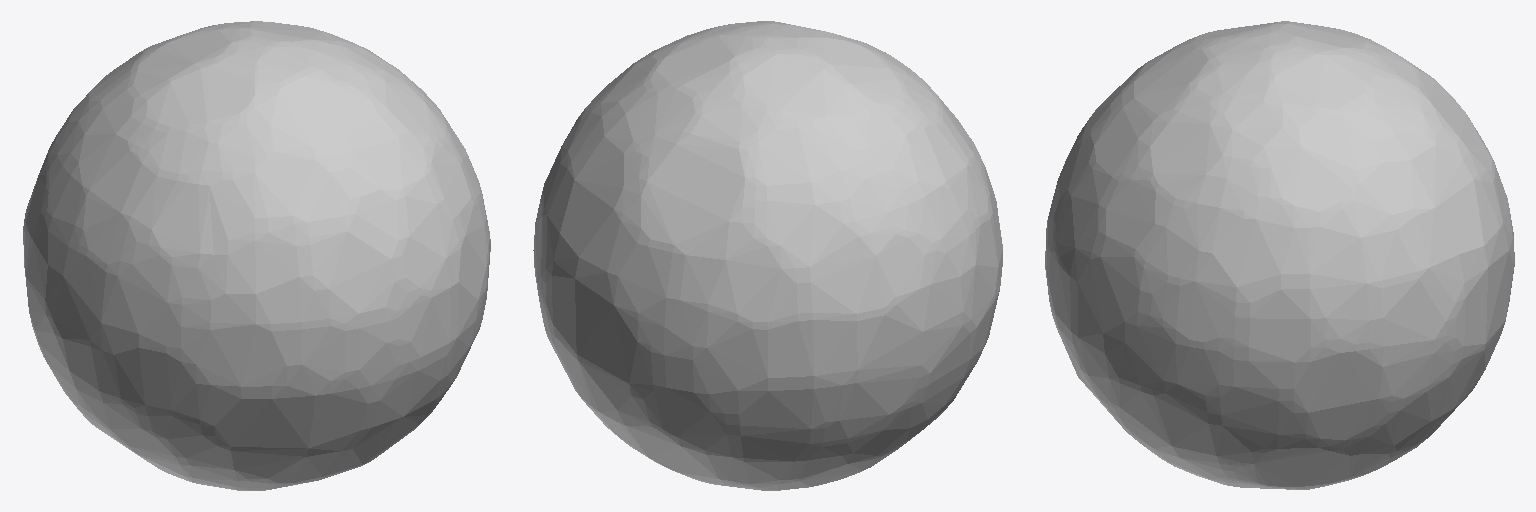
The model's file is cannon_ball.obj.
3 renders of one model, left to right at view 1: azimuth 30°, elevation 25°; view 2: azimuth 150°, elevation 25°; view 3: azimuth 270°, elevation 25°, orthographic.
Parts seen in each view (by area): view 1: Sphere; view 2: Sphere; view 3: Sphere.
Part boxes in pixels (left/top/right/bottom): Sphere: left=23, top=21, right=490, bottom=490; Sphere: left=533, top=21, right=1002, bottom=490; Sphere: left=1045, top=21, right=1514, bottom=489.
Bounding box in the file's own units: 0.5999 × 0.6 × 0.6006.